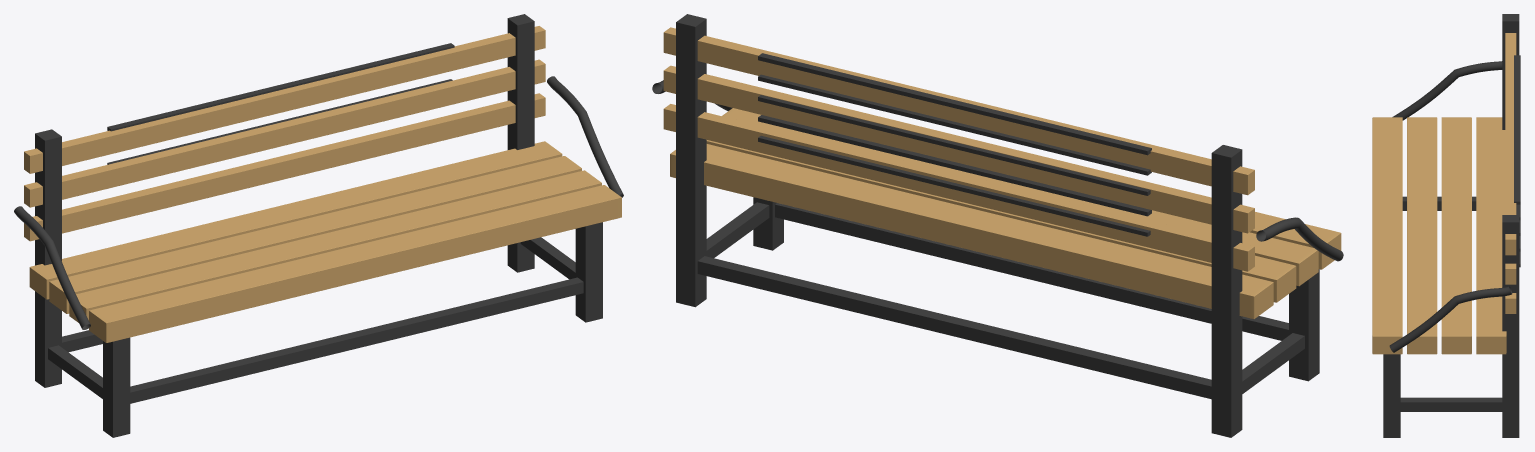
3 views of the same model, side by side, from view 1: azimuth 30°, elevation 25°; view 2: azimuth 150°, elevation 25°; view 3: azimuth 270°, elevation 25° (orthographic). The views are drawn at different scales.
Visible parts, largest first — view 1: Cube, Cube.006, Cube.005, Cube.007, Cube.002, Cube.003, Cube.001, Cube.012, Cube.010, Cube.011, Cube.008, Cube.009 (+7 smaller); view 2: Cube.003, Cube.006, Cube.005, Cube.007, Cube.013, Cube.010, Cube.011, Cube.012, Cube.001, Cube.002, Cube.020, Cube.017 (+9 smaller); view 3: Cube, Cube.002, Cube.001, Cube.003, Cube.011, Cube.007, Cube.015, Cube.009, BézierCurve.001, BézierCurve, Cube.020, Cube.010 (+3 smaller).
Boxes of the visible parts, left/top/right/bottom form: Cube: left=89, top=185, right=621, bottom=342; Cube.006: left=24, top=59, right=545, bottom=207; Cube.005: left=24, top=93, right=545, bottom=241; Cube.007: left=24, top=26, right=545, bottom=173; Cube.002: left=49, top=156, right=581, bottom=313; Cube.003: left=29, top=141, right=562, bottom=299; Cube.001: left=69, top=170, right=601, bottom=322; Cube.012: left=130, top=277, right=583, bottom=403; Cube.010: left=35, top=129, right=61, bottom=387; Cube.011: left=507, top=14, right=534, bottom=272; Cube.008: left=103, top=337, right=130, bottom=437; Cube.009: left=575, top=222, right=602, bottom=322; Cube.003: left=670, top=144, right=1273, bottom=318; Cube.006: left=663, top=65, right=1254, bottom=233; Cube.005: left=663, top=104, right=1254, bottom=271; Cube.007: left=663, top=27, right=1254, bottom=195; Cube.013: left=697, top=256, right=1211, bottom=399; Cube.010: left=1211, top=145, right=1242, bottom=437; Cube.011: left=676, top=14, right=706, bottom=307; Cube.012: left=775, top=203, right=1288, bottom=340; Cube.001: left=722, top=108, right=1318, bottom=286; Cube.002: left=706, top=140, right=1296, bottom=302; Cube.020: left=758, top=53, right=1151, bottom=155; Cube.017: left=758, top=115, right=1151, bottom=216; Cube: left=1372, top=117, right=1402, bottom=354; Cube.002: left=1441, top=117, right=1471, bottom=354; Cube.001: left=1407, top=117, right=1437, bottom=354; Cube.003: left=1476, top=117, right=1506, bottom=354; Cube.011: left=1502, top=215, right=1519, bottom=437; Cube.007: left=1505, top=33, right=1516, bottom=255; Cube.015: left=1400, top=397, right=1502, bottom=411; Cube.009: left=1383, top=354, right=1400, bottom=437; BézierCurve.001: left=1389, top=286, right=1512, bottom=352; BézierCurve: left=1392, top=61, right=1502, bottom=120; Cube.020: left=1514, top=55, right=1520, bottom=204; Cube.010: left=1502, top=14, right=1519, bottom=129.
Size of what is drawn, in the model's own units: 2.52 by 1.1 by 0.685.
